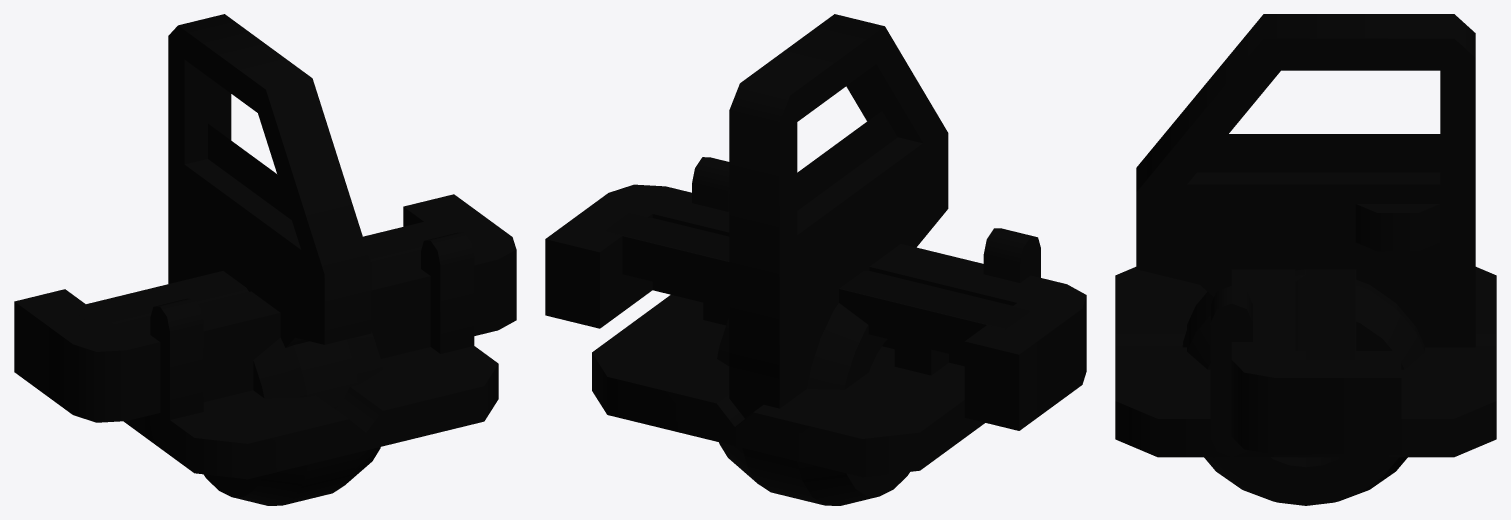
Rendered from debris.glb.
The picture shows the model from 3 angles, left to right: view 1: azimuth 30°, elevation 25°; view 2: azimuth 150°, elevation 25°; view 3: azimuth 270°, elevation 25°; orthographic projection. The views are drawn at different scales.
Visible parts, largest first — view 1: debris-bumper, debris-door, debris-plate-a, debris-tire, debris-spoiler-a, debris-door-window; view 2: debris-door, debris-bumper, debris-plate-a, debris-spoiler-a, debris-tire, debris-door-window, debris-plate-small-a; view 3: debris-door, debris-plate-a, debris-bumper, debris-tire, debris-door-window, debris-spoiler-a.
Boxes of the visible parts, <box> form: debris-bumper: <box>14,194,516,448</box>; debris-door: <box>168,14,371,347</box>; debris-plate-a: <box>124,346,498,479</box>; debris-tire: <box>203,331,382,505</box>; debris-spoiler-a: <box>69,217,460,325</box>; debris-door-window: <box>185,83,293,226</box>; debris-door: <box>729,14,948,418</box>; debris-bumper: <box>545,157,1086,430</box>; debris-plate-a: <box>592,295,984,477</box>; debris-spoiler-a: <box>604,213,1029,375</box>; debris-tire: <box>717,303,909,505</box>; debris-door-window: <box>797,111,897,232</box>; debris-plate-small-a: <box>711,337,898,388</box>; debris-door: <box>1136,14,1475,347</box>; debris-plate-a: <box>1115,267,1496,457</box>; debris-bumper: <box>1210,269,1401,457</box>; debris-tire: <box>1182,269,1424,505</box>; debris-door-window: <box>1188,134,1440,184</box>; debris-spoiler-a: <box>1295,269,1356,359</box>.
Bounding box in the file's own units: 1.3 × 1.2 × 0.9.
Materials: 1 (1 with a texture image).
